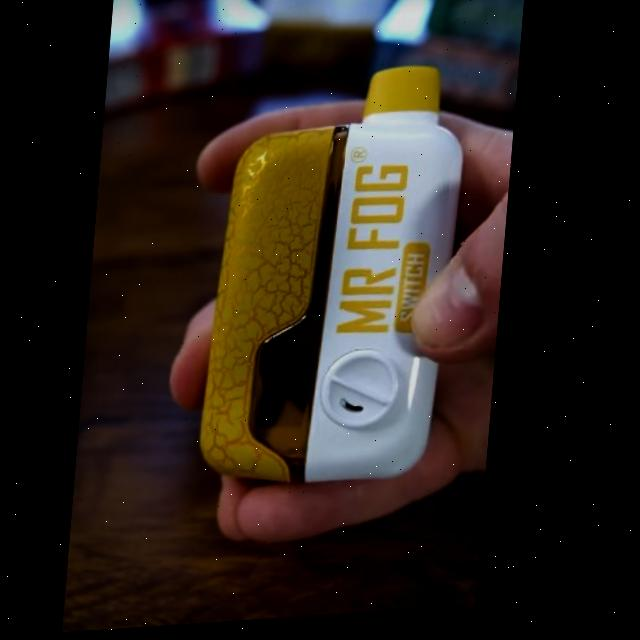vape: (201, 68, 473, 497)
